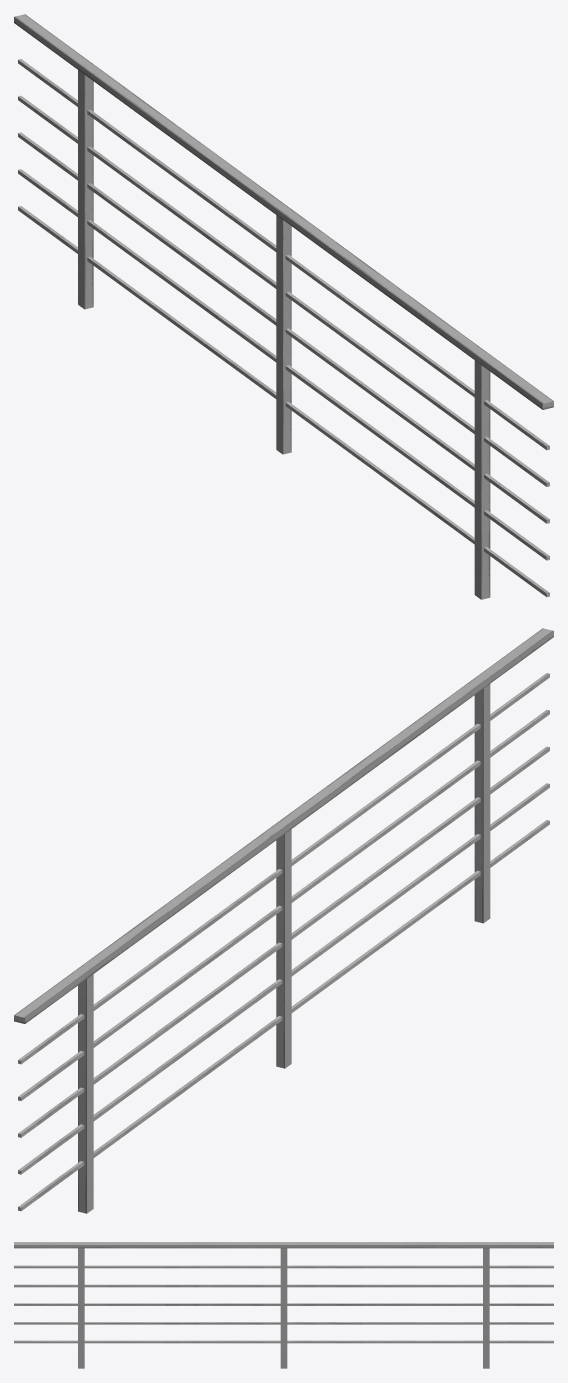
The model's file is MB_Fence_H_4m.fbx.
3 views of the same model, one above another, from view 1: azimuth 30°, elevation 25°; view 2: azimuth 150°, elevation 25°; view 3: azimuth 270°, elevation 25° (orthographic). The views are drawn at different scales.
Visible parts, largest first — view 1: MB_Fence_H_4m; view 2: MB_Fence_H_4m; view 3: MB_Fence_H_4m.
Part boxes in pixels (x1,y1,x2,y2): MB_Fence_H_4m: [14, 14, 553, 599]; MB_Fence_H_4m: [14, 628, 553, 1213]; MB_Fence_H_4m: [14, 1242, 553, 1368].
Size of the model in its own units: 4.88 by 101 by 400.
